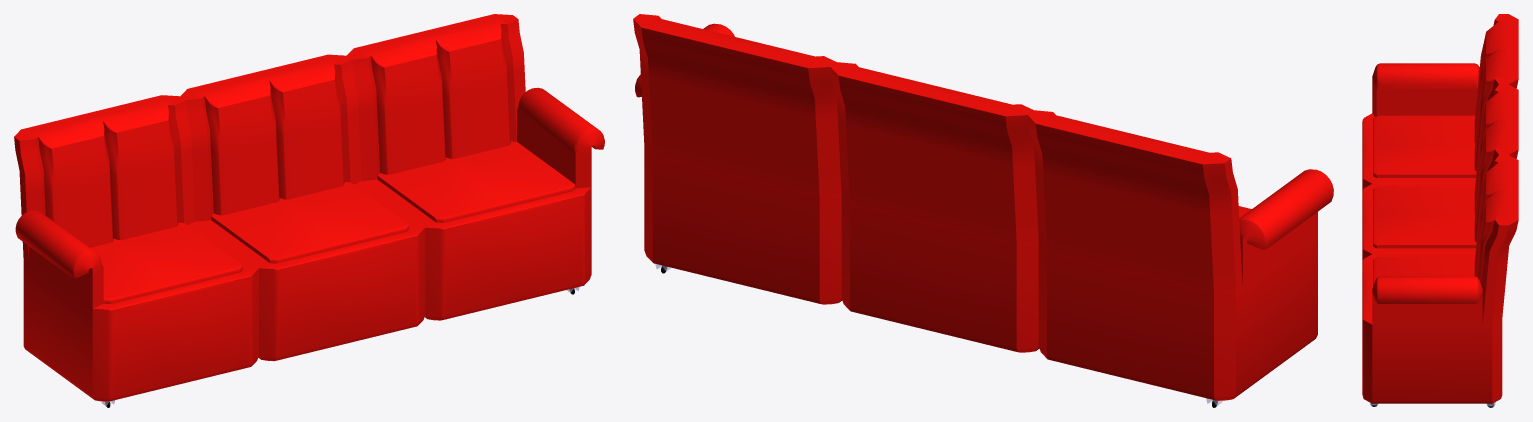
The model's file is chair14.fbx.
The picture shows the model from 3 angles, left to right: view 1: azimuth 30°, elevation 25°; view 2: azimuth 150°, elevation 25°; view 3: azimuth 270°, elevation 25°; orthographic projection. The views are drawn at different scales.
Parts seen in each view (by area): view 1: Chair14; view 2: Chair14; view 3: Chair14.
Part boxes in pixels (x1=…): Chair14: x1=14, y1=14, x2=604, y2=407; Chair14: x1=633, y1=14, x2=1333, y2=407; Chair14: x1=1362, y1=14, x2=1518, y2=407.
Bounding box in the file's own units: 258 × 101 × 75.48.
